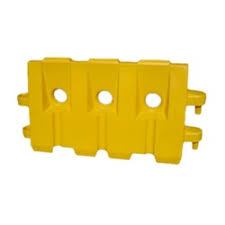barrier: (16, 57, 201, 166)
